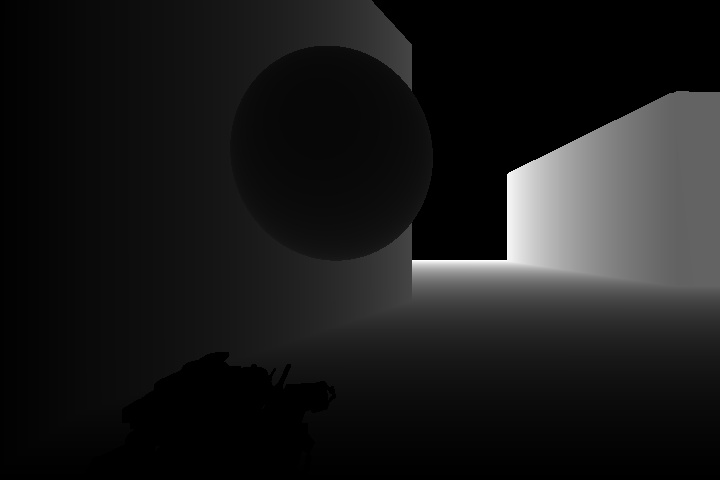mushroom: (228, 42, 439, 264)
